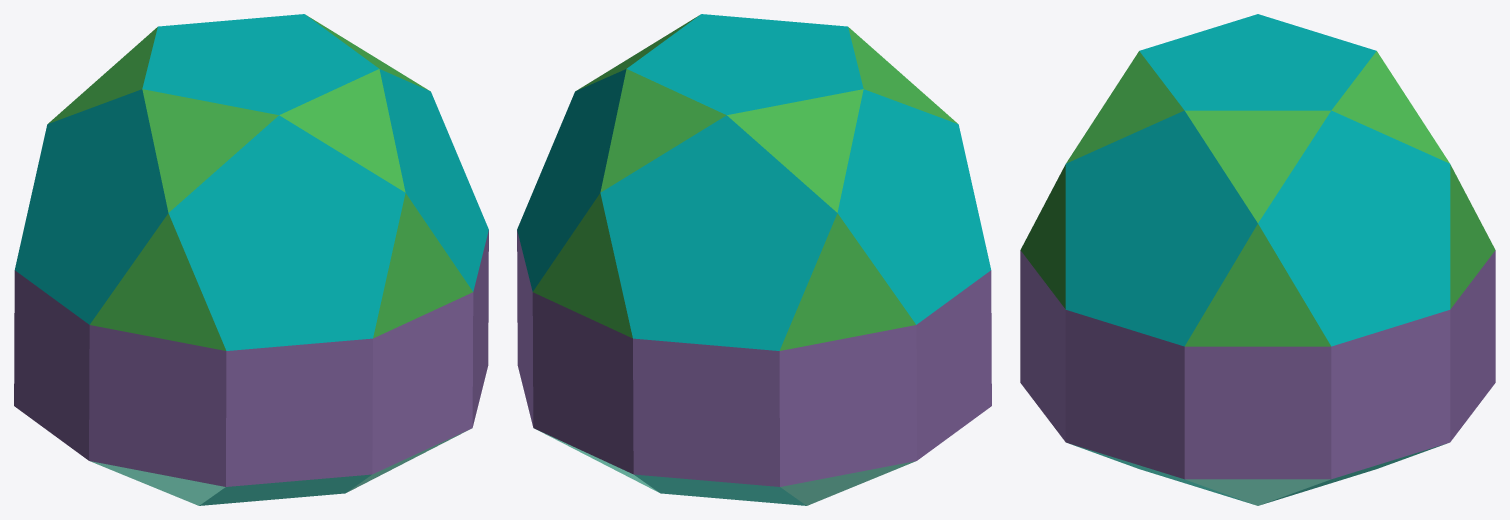
File: J41.GirocupularrotondaPentagonalElongada.gltf
3 renders of one model, left to right at view 1: azimuth 30°, elevation 25°; view 2: azimuth 150°, elevation 25°; view 3: azimuth 270°, elevation 25°, orthographic. The views are drawn at different scales.
Visible parts, largest first — view 1: J41.GirocupularrotondaPentagonalElongada; view 2: J41.GirocupularrotondaPentagonalElongada; view 3: J41.GirocupularrotondaPentagonalElongada.
Boxes of the visible parts, left/top/right/bottom form: J41.GirocupularrotondaPentagonalElongada: left=14, top=14, right=488, bottom=505; J41.GirocupularrotondaPentagonalElongada: left=517, top=14, right=991, bottom=505; J41.GirocupularrotondaPentagonalElongada: left=1020, top=14, right=1495, bottom=505.
Bounding box in the file's own units: 14.96 × 14.13 × 15.71.
